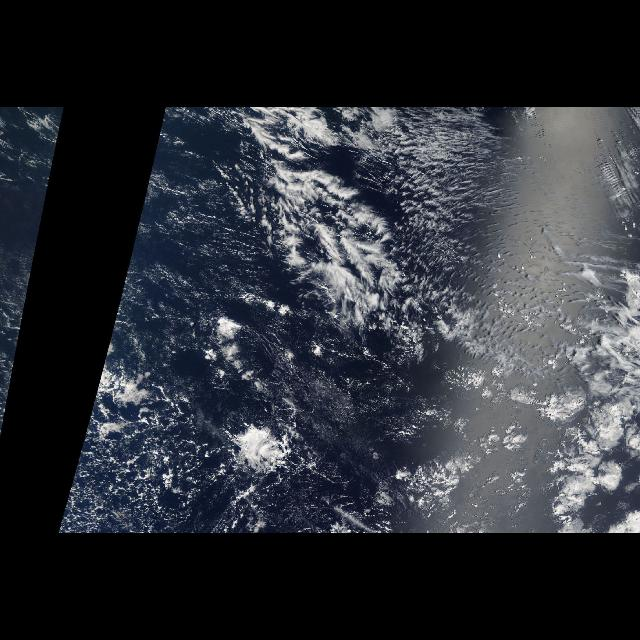Fish: (231, 118, 435, 348)
Gravel: (86, 118, 276, 526), (11, 117, 64, 389)
Sugar: (361, 110, 557, 354)
